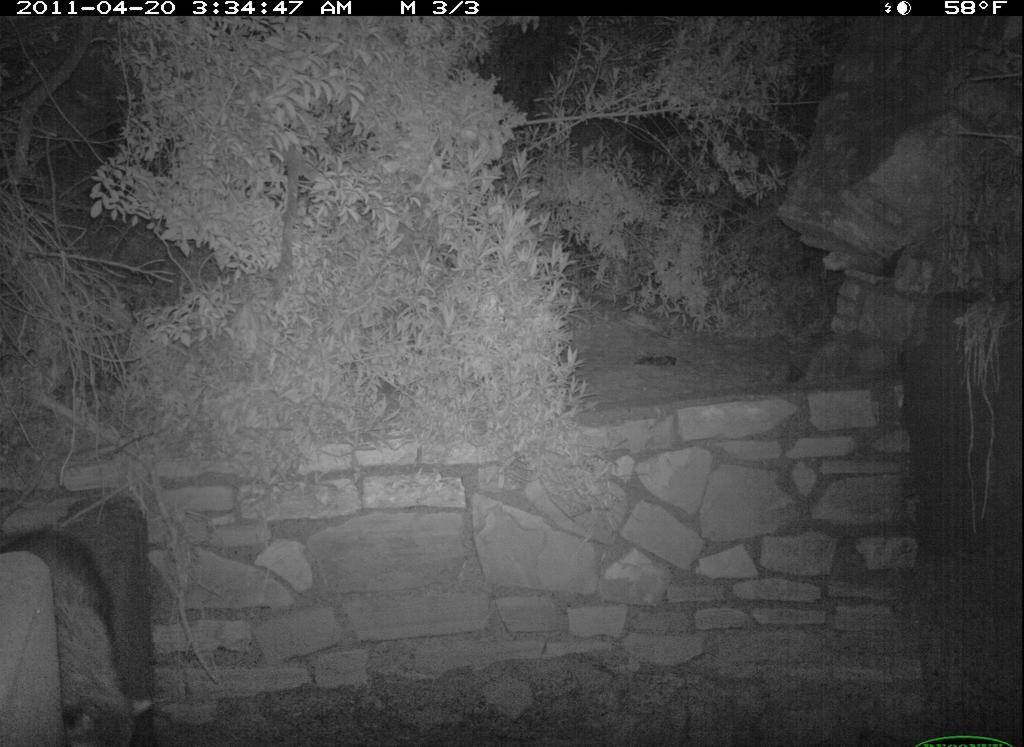raccoon: (8, 527, 158, 747)
